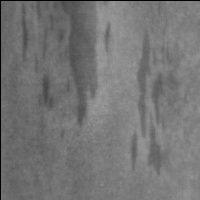inclusion: (127, 30, 180, 178), (62, 2, 116, 132), (18, 3, 66, 78), (37, 69, 59, 115)
